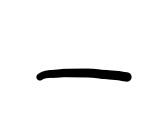minus: (36, 69, 132, 82)
